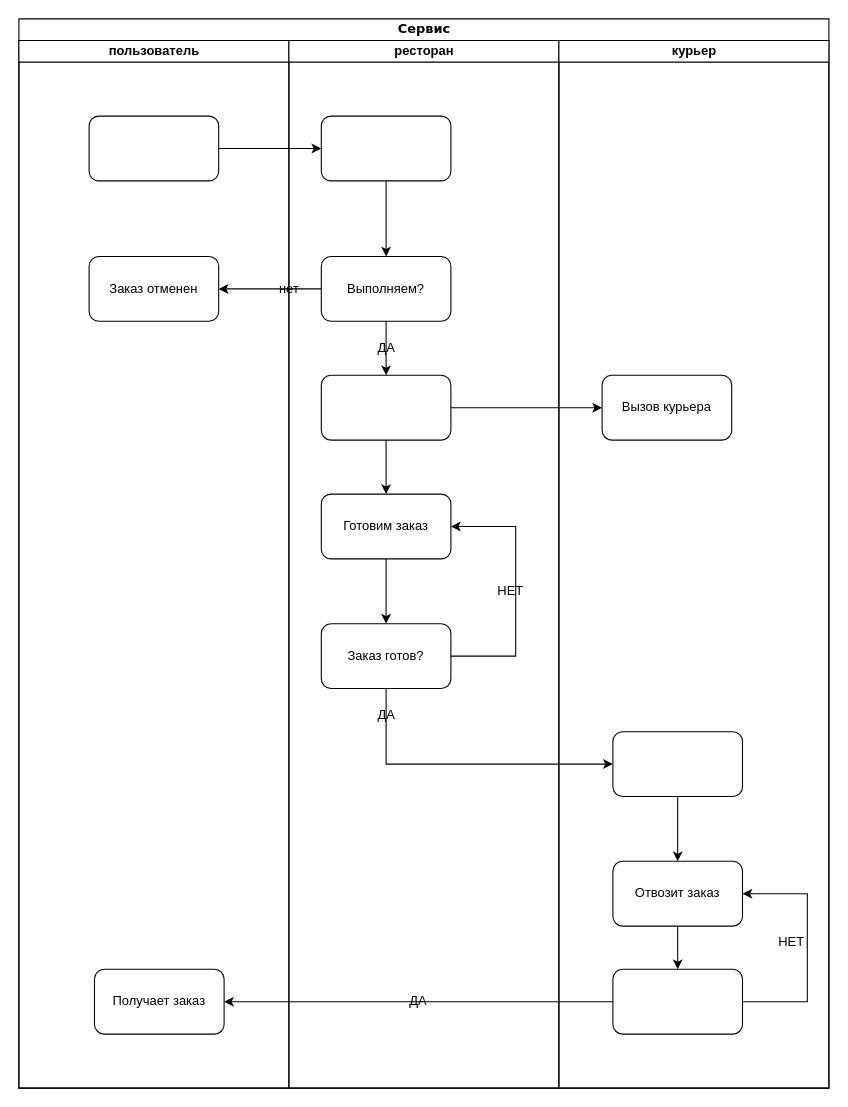
The diagram is 848 pixels wide and 1107 high, and some of its shapes have lost their labels. Each missing label, with the box of its shape:
На месте?: (612, 968, 742, 1034)
Отдаем курьеру заказ: (612, 731, 742, 796)
Передаем в работу: (320, 374, 451, 440)
Получен заказ: (320, 115, 451, 181)
Создает заказ: (88, 115, 219, 181)
